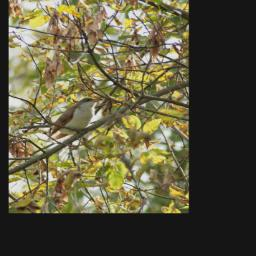Cuckoo: (41, 93, 105, 139)
